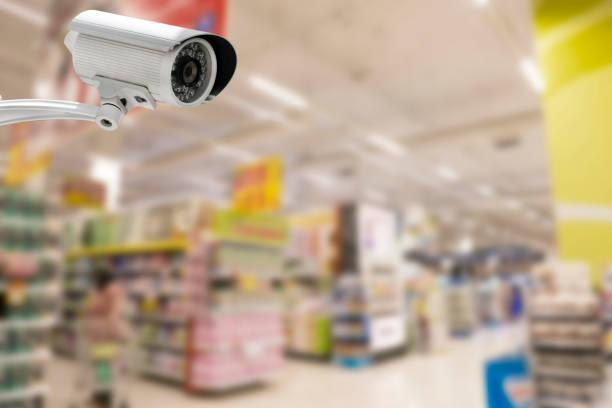camera: (53, 0, 240, 149)
